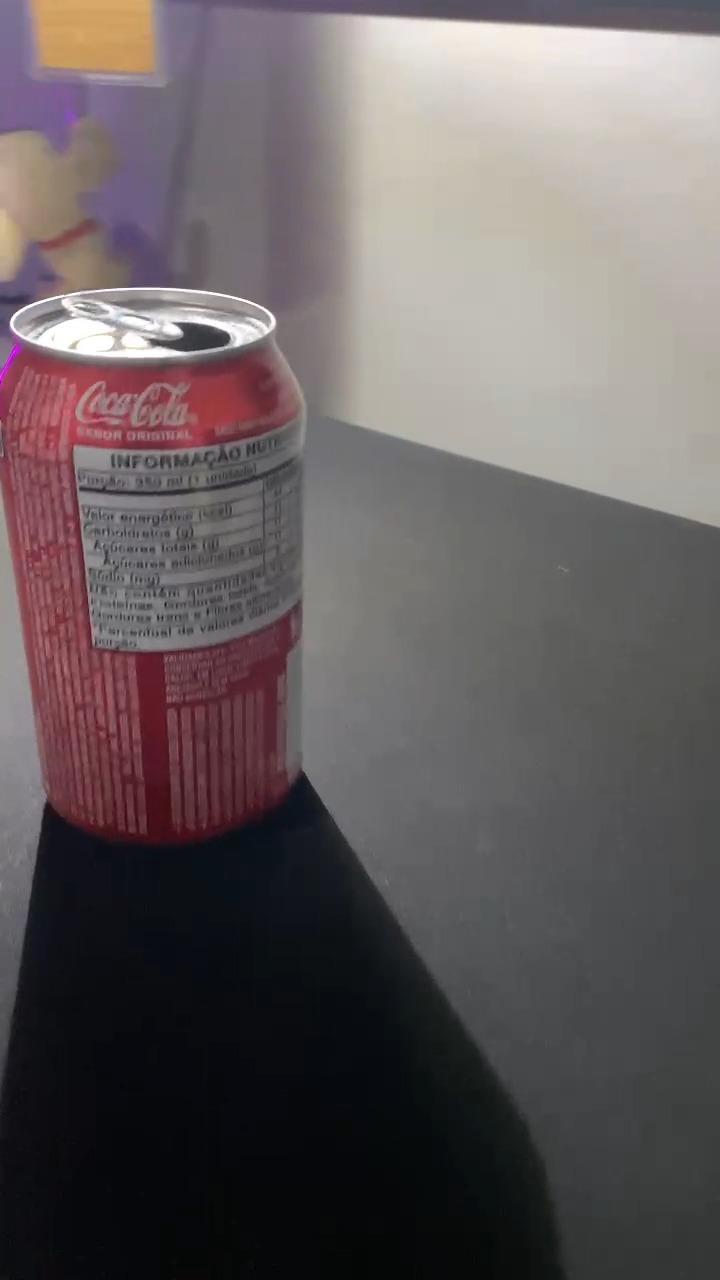coke: (4, 292, 312, 843)
